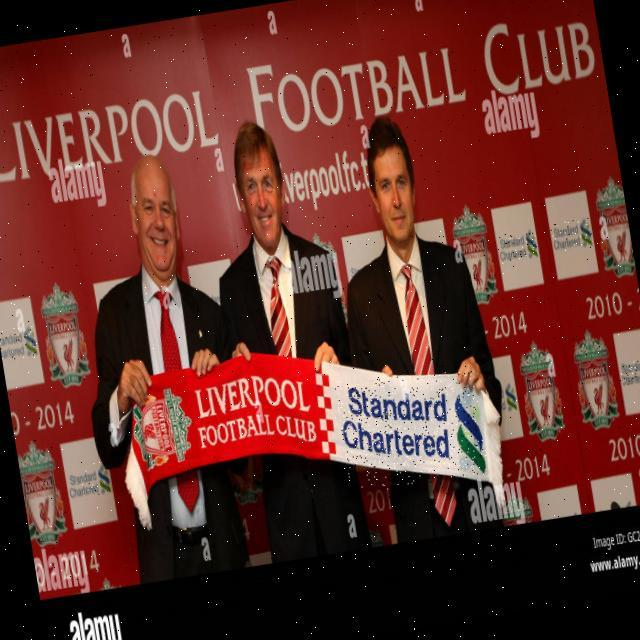Standard Chartered: (336, 365, 489, 495), (66, 461, 112, 501), (497, 227, 539, 265), (550, 218, 594, 254), (0, 323, 38, 361), (619, 358, 640, 387)
